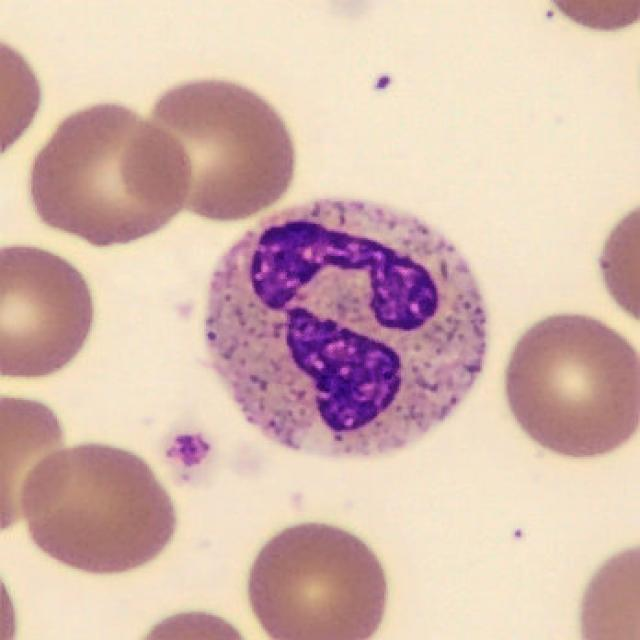Neutrofilo segmentado: (206, 201, 487, 459)
